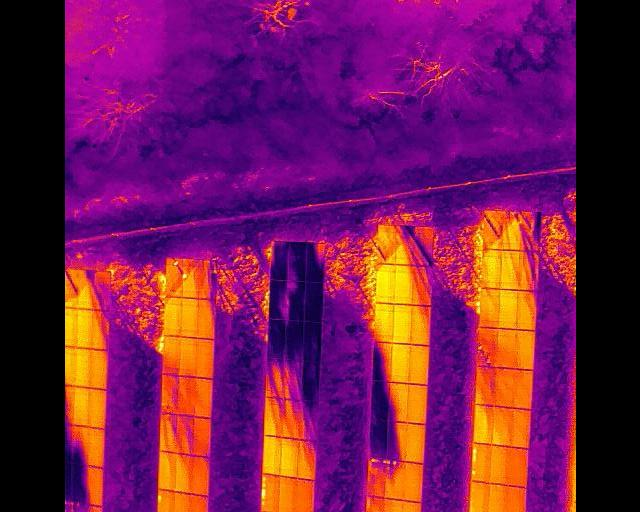Cell: (180, 259, 197, 298), (156, 489, 173, 512)
Cell-Multi: (470, 443, 491, 482), (163, 258, 181, 298), (260, 475, 279, 512)
No-Anomaly: (401, 463, 422, 503), (373, 265, 394, 305), (480, 249, 500, 289), (497, 329, 517, 369), (490, 445, 510, 485), (279, 438, 299, 478), (510, 410, 530, 449), (404, 424, 424, 463), (409, 344, 428, 385), (492, 407, 512, 445), (499, 289, 518, 329), (192, 378, 211, 418), (372, 304, 392, 342), (261, 438, 281, 476), (390, 344, 409, 384), (494, 368, 513, 407), (193, 339, 212, 378), (480, 289, 499, 327), (177, 338, 196, 376), (189, 457, 208, 495), (500, 250, 518, 290), (392, 265, 410, 305), (406, 384, 424, 424), (473, 406, 492, 443), (87, 429, 105, 468), (392, 304, 410, 343), (195, 299, 213, 338), (89, 388, 106, 429), (514, 370, 532, 408), (172, 456, 190, 494), (164, 298, 182, 336), (157, 452, 175, 489), (278, 477, 297, 512), (509, 449, 526, 488), (90, 350, 107, 389), (468, 482, 489, 512), (74, 348, 90, 387), (180, 299, 196, 338), (74, 388, 89, 428), (75, 309, 90, 348), (488, 485, 509, 512), (297, 479, 314, 512), (518, 330, 532, 370), (88, 467, 102, 505), (508, 487, 525, 512), (172, 493, 189, 512), (188, 495, 206, 512), (382, 500, 400, 512), (399, 502, 419, 512)
Shadowing: (393, 226, 414, 266), (474, 366, 495, 405), (518, 212, 539, 251), (518, 251, 538, 291), (305, 243, 325, 283), (283, 360, 303, 400), (409, 305, 429, 344), (410, 266, 430, 305), (371, 342, 390, 382), (191, 417, 210, 457), (263, 398, 282, 438), (387, 382, 406, 422), (197, 259, 216, 299), (175, 376, 194, 416), (282, 399, 300, 441), (500, 211, 519, 250), (90, 272, 109, 311), (481, 210, 500, 249), (287, 243, 306, 282), (476, 328, 496, 365), (517, 291, 535, 331), (300, 402, 318, 442), (286, 281, 304, 321), (369, 381, 387, 421), (302, 321, 320, 361), (269, 280, 287, 320), (265, 358, 283, 398), (386, 422, 404, 462), (368, 421, 386, 461), (366, 457, 384, 497), (160, 373, 177, 415), (89, 311, 107, 350), (414, 228, 432, 267), (383, 460, 401, 499), (174, 414, 191, 455), (305, 282, 322, 322), (377, 225, 394, 265), (285, 320, 301, 362), (269, 243, 287, 280), (267, 320, 284, 358), (303, 362, 319, 402), (163, 335, 179, 375), (72, 426, 87, 467), (159, 414, 175, 452), (75, 271, 91, 309), (298, 442, 314, 480), (73, 467, 88, 503), (364, 497, 383, 512), (71, 503, 86, 512)
